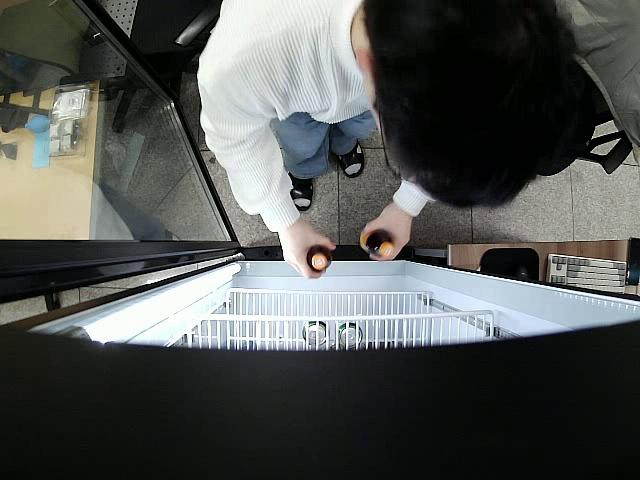00_hand: (282, 222, 337, 279), (362, 207, 411, 263)
17_vita500: (366, 228, 394, 259), (307, 243, 333, 272)
